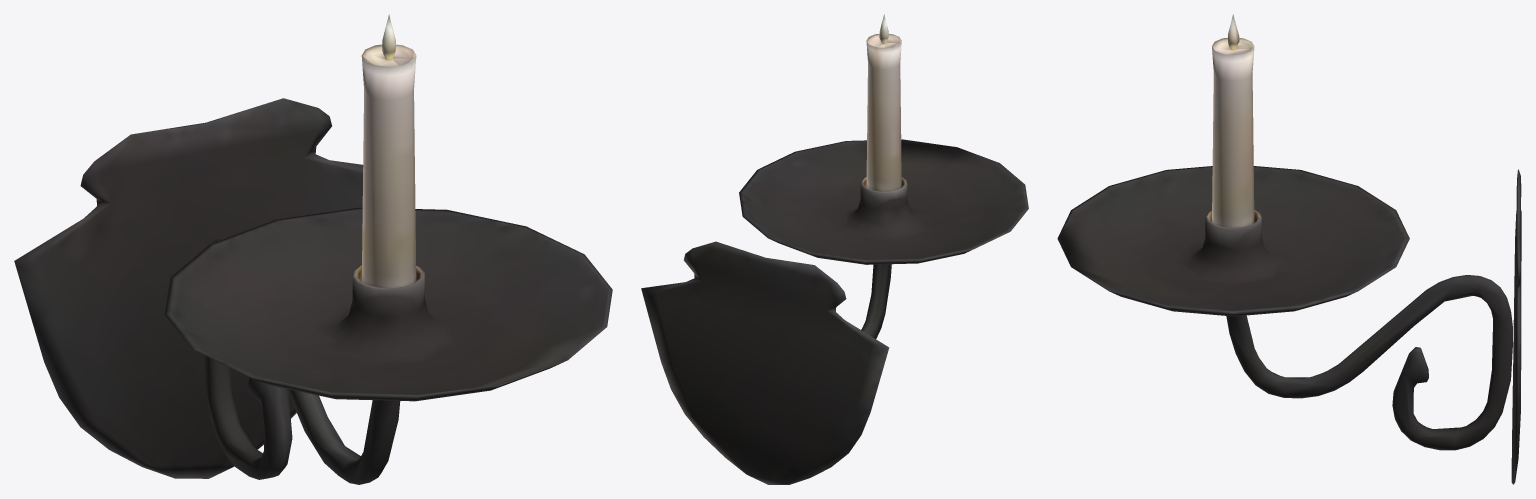
The model's file is candle-sconce.gltf.
3 renders of one model, left to right at view 1: azimuth 30°, elevation 25°; view 2: azimuth 150°, elevation 25°; view 3: azimuth 270°, elevation 25°, orthographic. The views are drawn at different scales.
Visible parts, largest first — view 1: Sketchfab_model; view 2: Sketchfab_model; view 3: Sketchfab_model.
Part boxes in pixels (x1,y1,x2,y2): Sketchfab_model: [14, 14, 612, 484]; Sketchfab_model: [641, 14, 1028, 484]; Sketchfab_model: [1057, 14, 1521, 484].
Bounding box in the file's own units: 0.2751 × 0.4 × 0.3623.
1 material, 1 textured.
